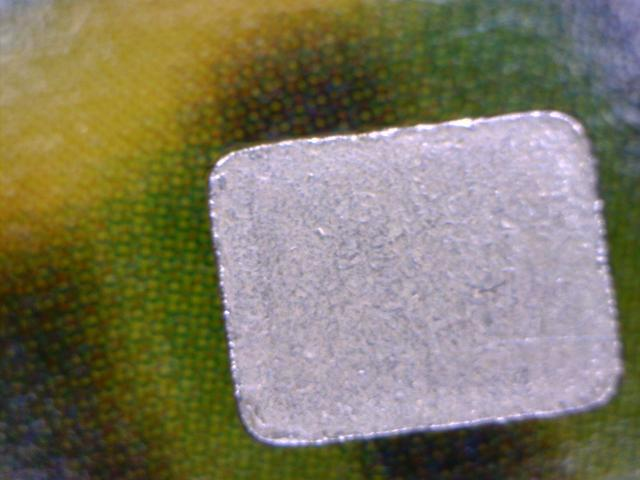ok: (200, 101, 628, 452)
